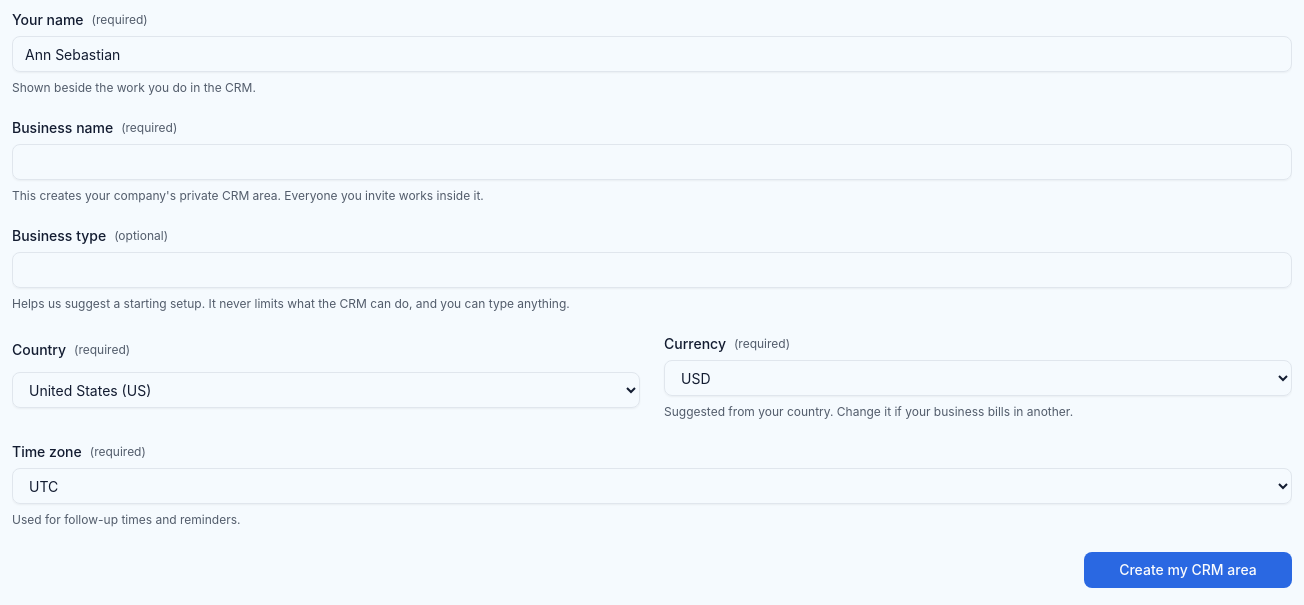
Scenario: defaults never overwrite a person's choice › 11. leaves currency for the person when a country has no clear mapping
This screenshot has width=1304, height=605.
# A mapped country suggests its currency...
Step 1. Select "India (IN)" in the dropdown labelled "Country (required)" → (326, 390), box [12,372,640,408]
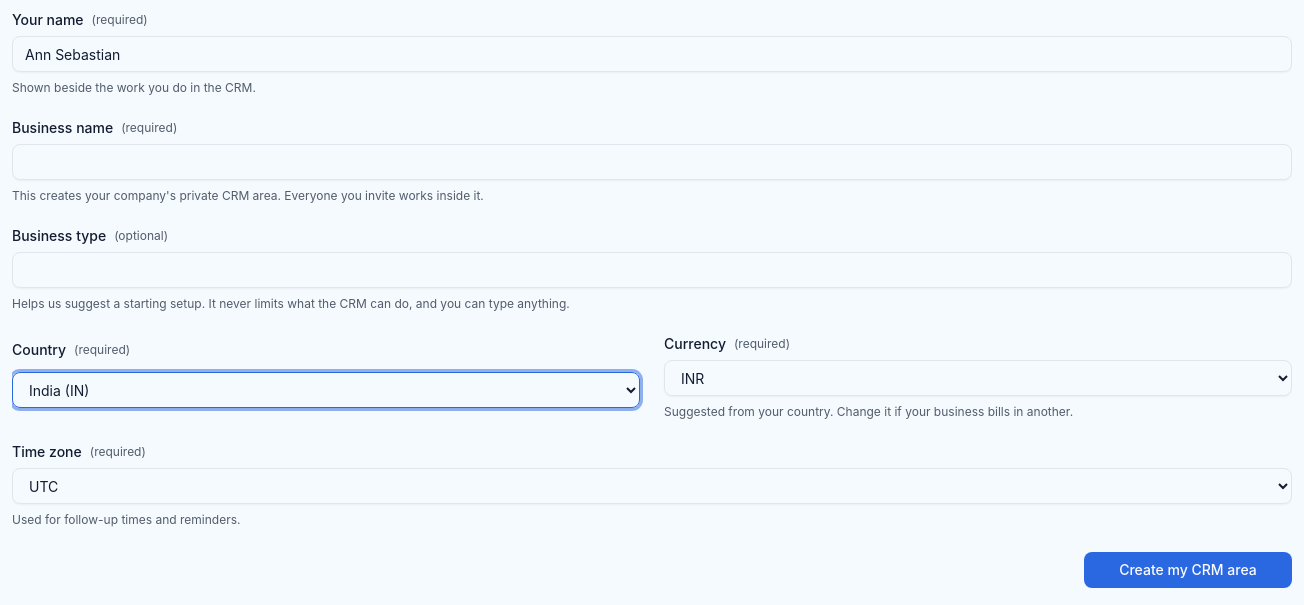
Expected: the dropdown labelled "Currency (required)" shows "INR", [664,360,1292,396]
Step 2. Select "Antarctica (AQ)" in the dropdown labelled "Country (required)" → (326, 390), box [12,372,640,408]
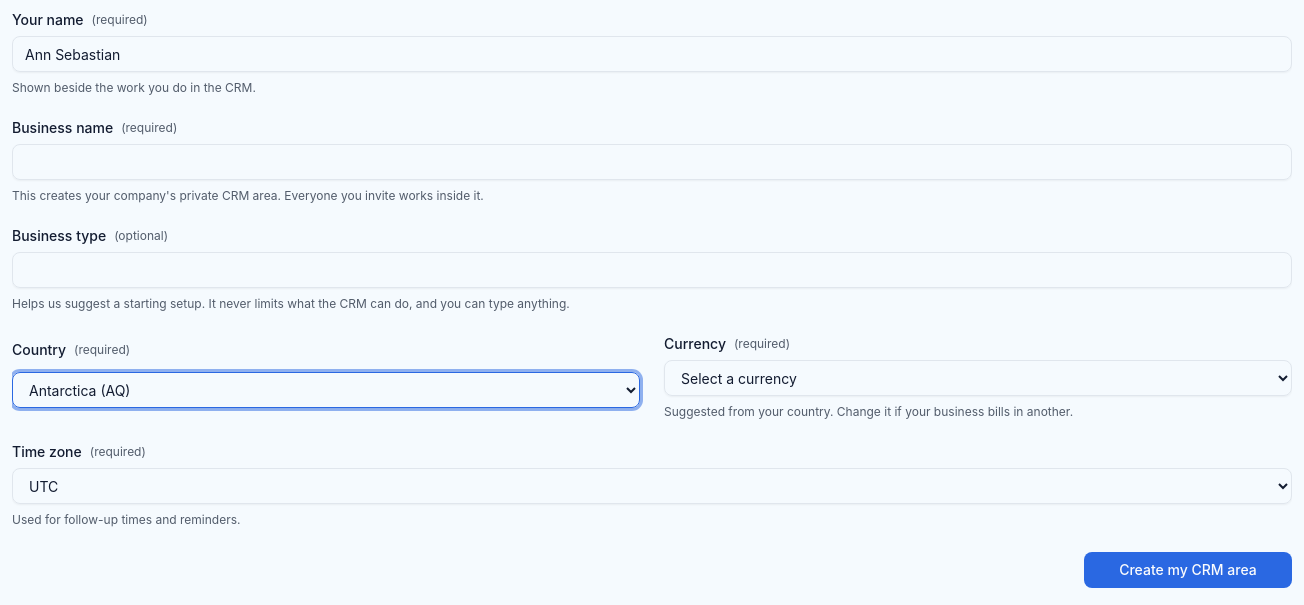
Expected: the dropdown labelled "Currency (required)" shows "Select a currency", [664,360,1292,396]
